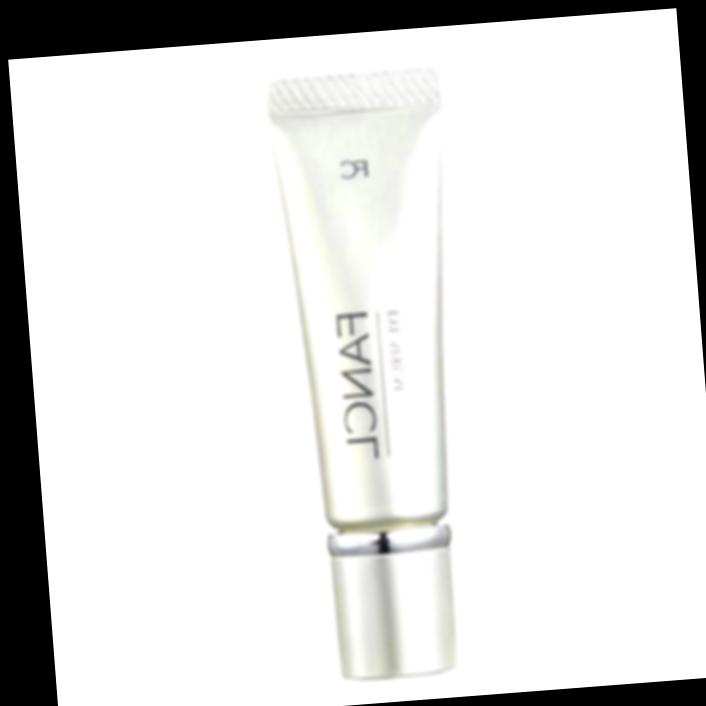cosmetic: (275, 63, 484, 684)
